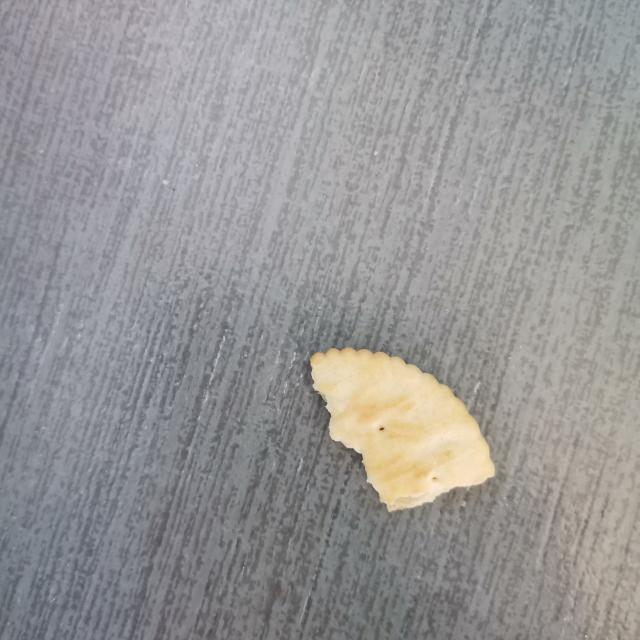Broken: (309, 345, 495, 513)
